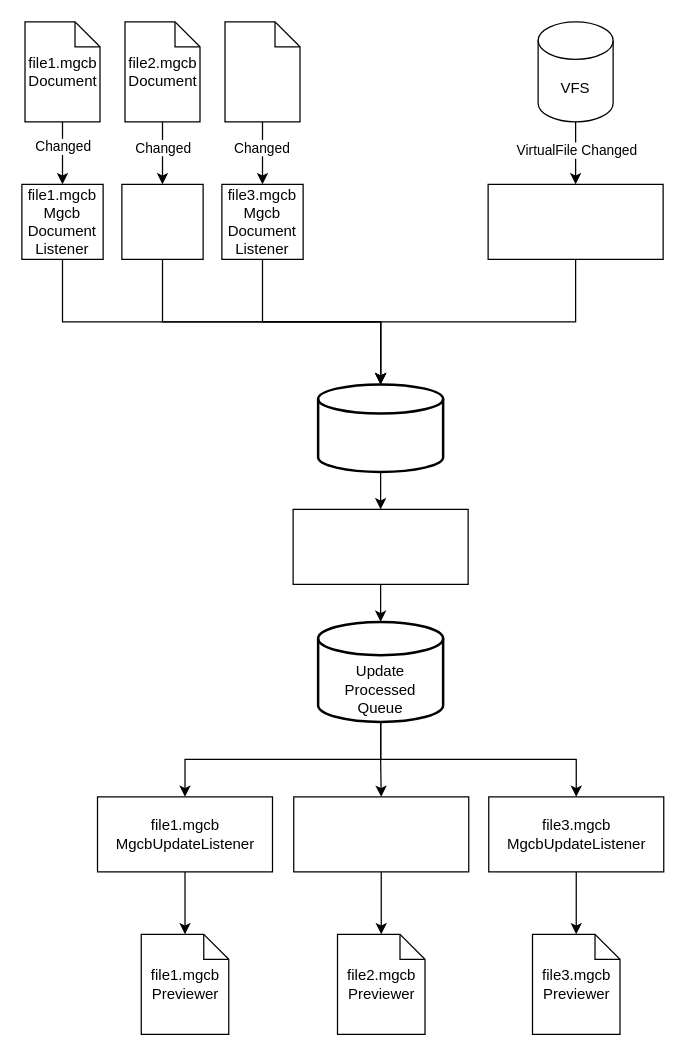
This 686x1056 diagram has some shape labels left out. Each missing label, with the box of its shape:
file2.mgcb Mgcb Document Listener: (121, 183, 203, 259)
file2.mgcb MgcbUpdateListener: (292, 796, 469, 872)
file3.mgcb Document: (224, 21, 300, 122)
MgcbFileListener: (487, 183, 663, 259)
MgcbPending UpdateListener: (292, 508, 468, 584)
Pending Update Queue: (316, 382, 444, 472)
